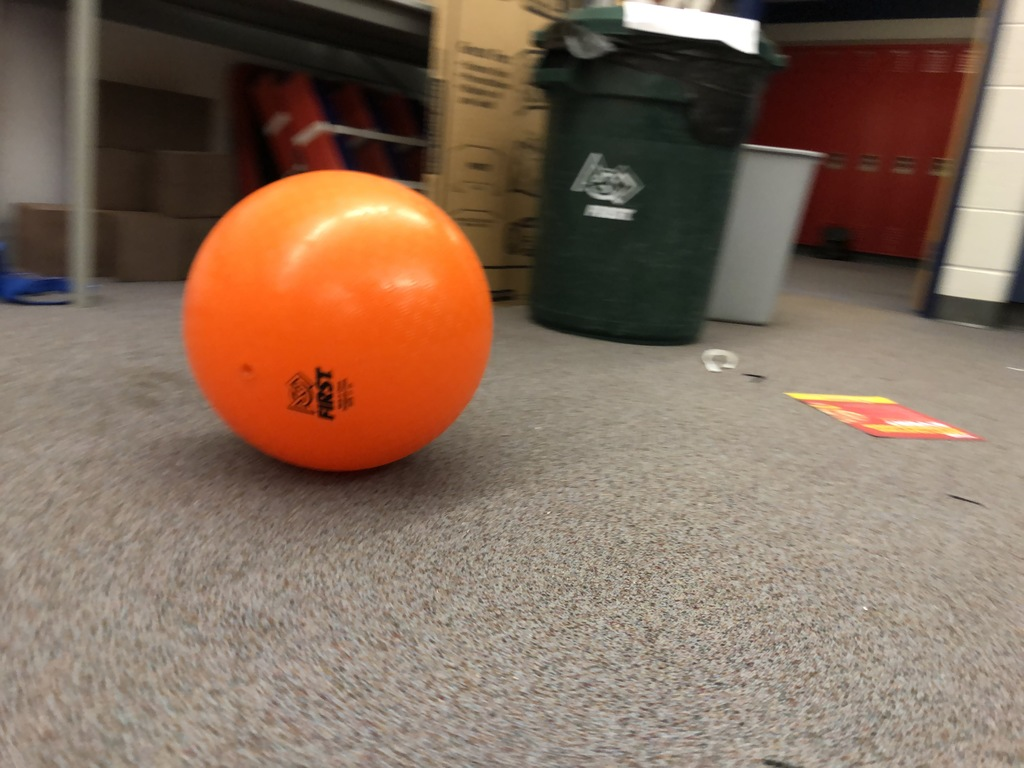cargo: (173, 155, 498, 484)
